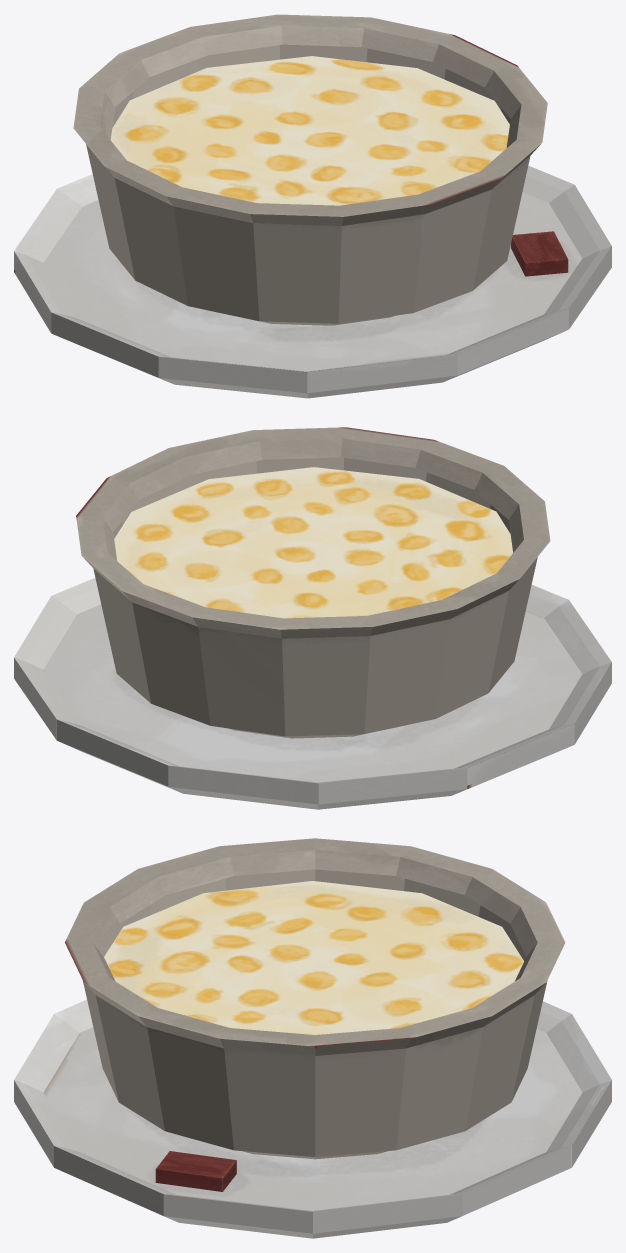
Rendered from mazamorra.glb.
3 renders of one model, top to bottom at view 1: azimuth 30°, elevation 25°; view 2: azimuth 150°, elevation 25°; view 3: azimuth 270°, elevation 25°, orthographic. The views are drawn at different scales.
Parts seen in each view (by area): view 1: Cylinder, Cylinder.001, Cylinder.002, Cube; view 2: Cylinder, Cylinder.001, Cylinder.002; view 3: Cylinder, Cylinder.001, Cylinder.002, Cube.
Boxes of the visible parts, x1,y1,x2,y2 form: Cylinder: (73,14,547,325); Cylinder.001: (14,165,611,398); Cylinder.002: (110,56,509,205); Cube: (511,231,568,276); Cylinder: (76,427,550,738); Cylinder.001: (14,578,611,809); Cylinder.002: (114,467,512,618); Cylinder: (65,838,565,1159); Cylinder.001: (14,999,611,1238); Cylinder.002: (104,881,523,1034); Cube: (155,1151,236,1191).
Bounding box in the file's own units: 9.38 × 2.94 × 8.98.
4 materials, 4 textured.
